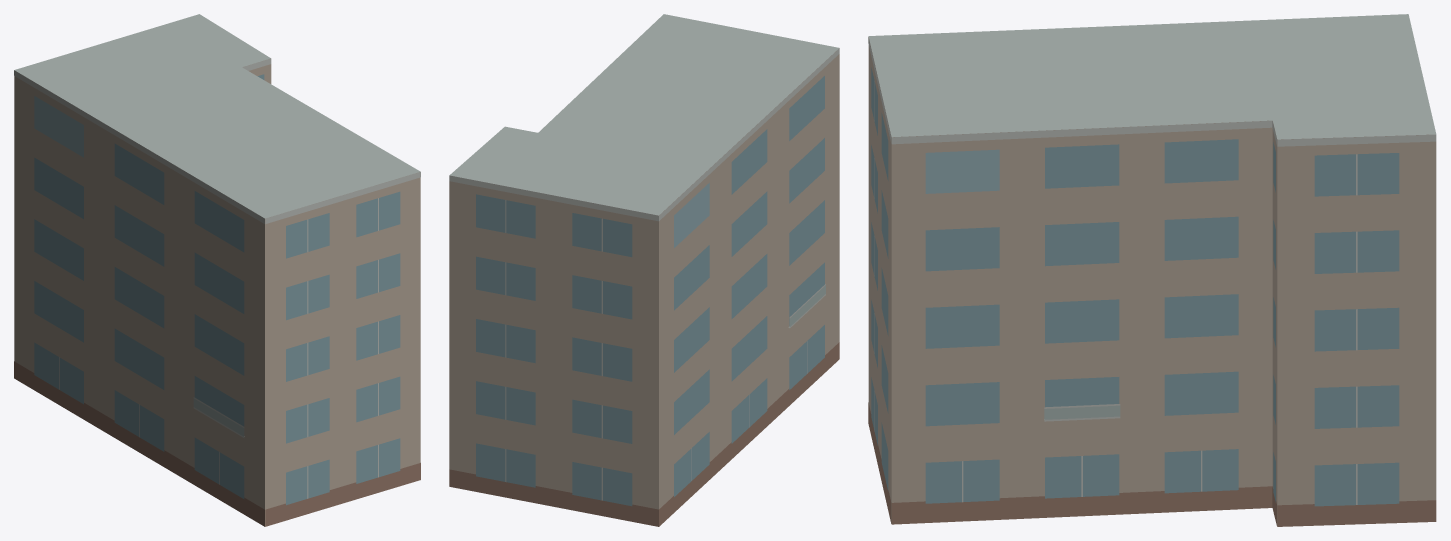
Rendered from survey-upis-33025466.glb.
3 renders of one model, left to right at view 1: azimuth 30°, elevation 25°; view 2: azimuth 150°, elevation 25°; view 3: azimuth 270°, elevation 25°, orthographic. The views are drawn at different scales.
Visible parts, largest first — view 1: survey-upis-33025466.tmp; view 2: survey-upis-33025466.tmp; view 3: survey-upis-33025466.tmp.
Part boxes in pixels (left/top/right/bottom): survey-upis-33025466.tmp: left=14, top=14, right=420, bottom=526; survey-upis-33025466.tmp: left=449, top=14, right=839, bottom=526; survey-upis-33025466.tmp: left=868, top=14, right=1436, bottom=526.
Bounding box in the file's own units: 9.19 × 13.2 × 17.55.
